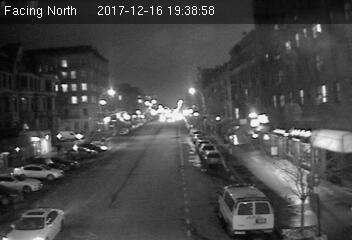car: (1, 207, 67, 240), (202, 150, 222, 167)
police: (210, 185, 279, 237)
